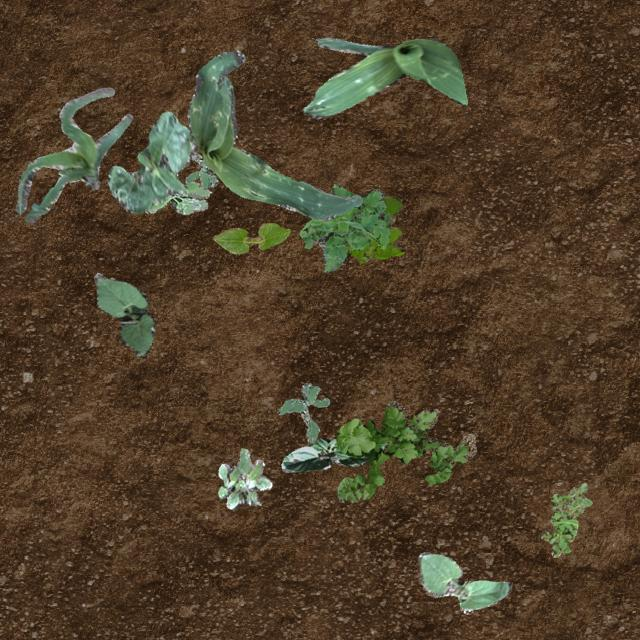crop: (186, 49, 362, 220), (15, 86, 132, 222), (303, 36, 467, 118), (106, 110, 196, 212), (418, 550, 510, 612), (92, 272, 154, 356), (280, 436, 386, 472), (212, 222, 288, 252)
weed: (336, 399, 476, 502), (298, 182, 388, 272), (346, 194, 404, 262), (540, 482, 590, 556), (276, 382, 328, 444), (218, 448, 270, 508), (144, 180, 210, 213), (184, 152, 217, 188)
